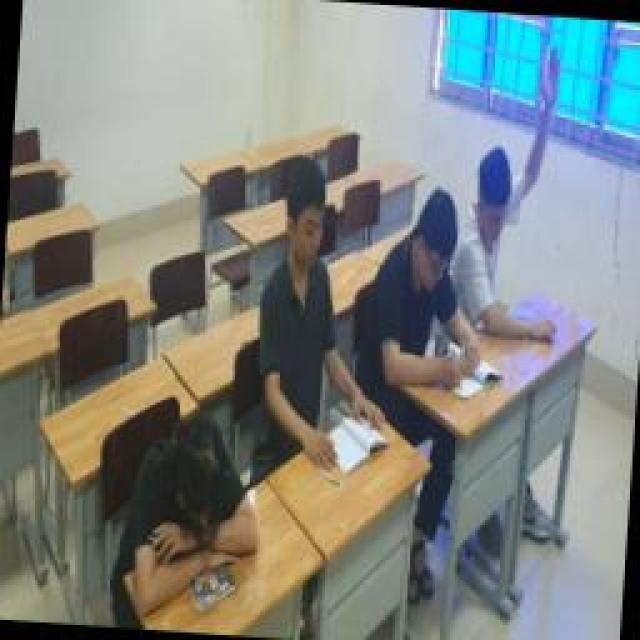sleep: (123, 415, 265, 613)
study: (253, 168, 385, 482), (455, 45, 575, 353), (372, 188, 490, 392)
